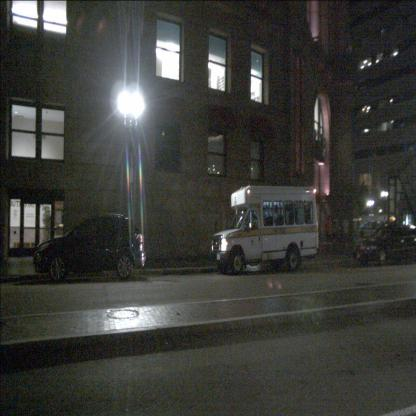human-pedestrian-adult: (324, 215, 334, 257), (332, 213, 341, 256), (341, 214, 350, 255)
vehicle-bus-rigid: (212, 185, 320, 274)
vehicle-car: (34, 216, 146, 282), (353, 221, 416, 266), (359, 221, 389, 240)
